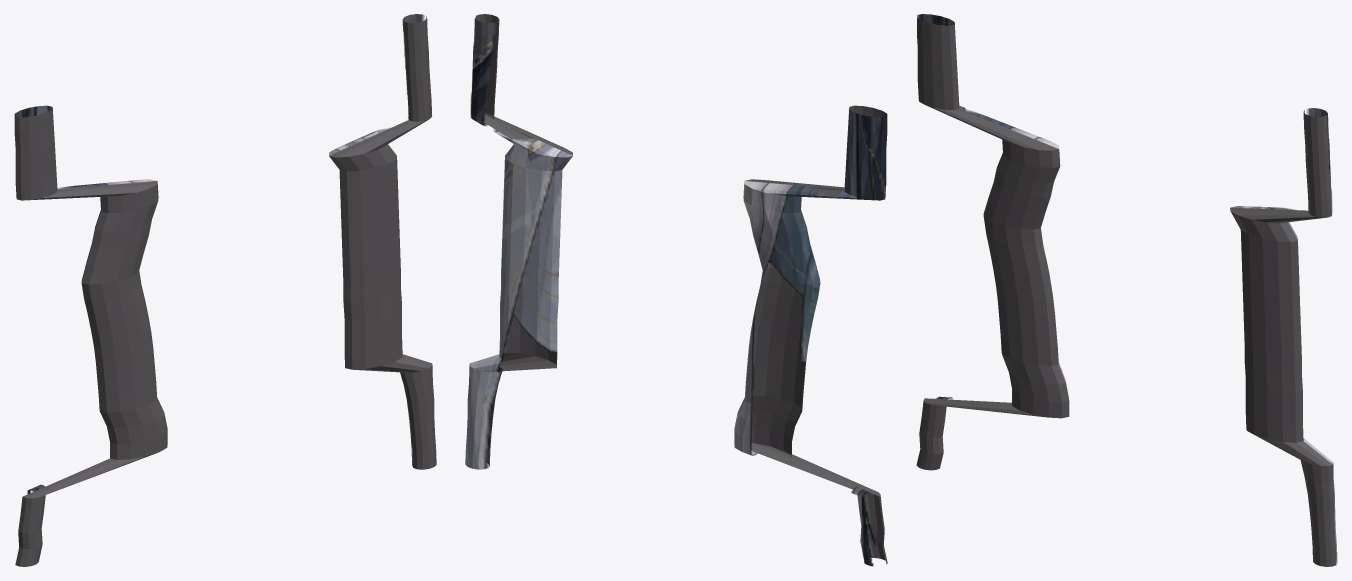
The model's file is yuna_semantic_layer_v9_leg.glb.
3 renders of one model, left to right at view 1: azimuth 30°, elevation 25°; view 2: azimuth 150°, elevation 25°; view 3: azimuth 330°, elevation 25°, orthographic.
Visible parts, largest first — view 1: leg_L_retopo_proxy_candidate, leg_R_retopo_proxy_candidate; view 2: leg_L_retopo_proxy_candidate, leg_R_retopo_proxy_candidate; view 3: leg_L_retopo_proxy_candidate, leg_R_retopo_proxy_candidate.
Boxes of the visible parts, box(x1,y1,x2,y2) form: leg_L_retopo_proxy_candidate: box(14, 105, 167, 566); leg_R_retopo_proxy_candidate: box(329, 14, 436, 469); leg_L_retopo_proxy_candidate: box(734, 105, 887, 566); leg_R_retopo_proxy_candidate: box(465, 14, 572, 469); leg_L_retopo_proxy_candidate: box(916, 14, 1069, 470); leg_R_retopo_proxy_candidate: box(1230, 108, 1337, 566).
Bounding box in the file's own units: 1.68 × 1.72 × 0.0966.
Materials: 3 (2 with a texture image).
